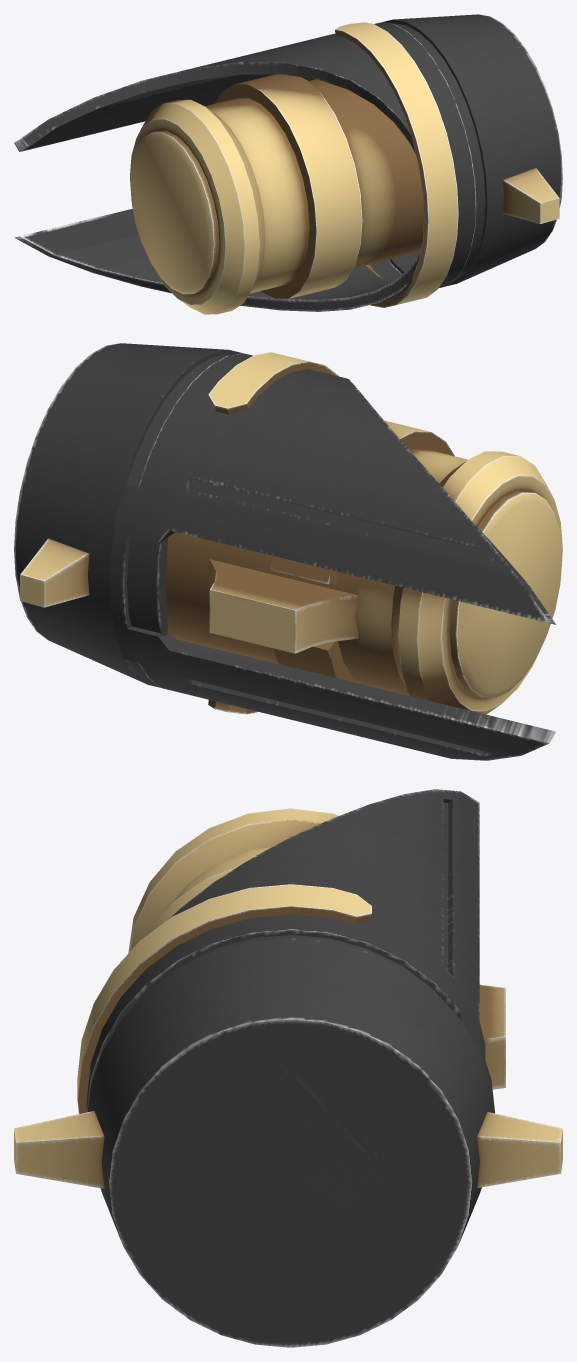
The model's file is pommel_18_r_b.glb.
3 views of the same model, one above another, from view 1: azimuth 30°, elevation 25°; view 2: azimuth 150°, elevation 25°; view 3: azimuth 270°, elevation 25° (orthographic). The views are drawn at different scales.
Parts seen in each view (by area): view 1: pommel_18_r_b_lod0; view 2: pommel_18_r_b_lod0; view 3: pommel_18_r_b_lod0.
Boxes of the visible parts, <box> form: pommel_18_r_b_lod0: <box>14,14,562,314</box>; pommel_18_r_b_lod0: <box>14,343,562,760</box>; pommel_18_r_b_lod0: <box>14,789,562,1347</box>.
Size of what is drawn, in the model's own units: 0.0636 by 0.037 by 0.0475.
1 material, 1 textured.
